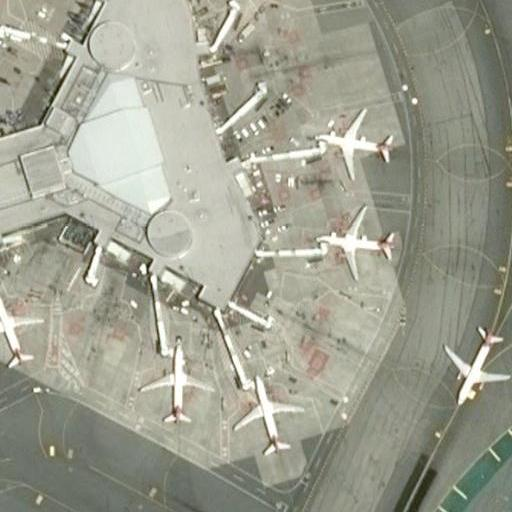Aircraft: (139, 343, 214, 425), (231, 376, 304, 457), (314, 205, 393, 279), (314, 106, 392, 180), (441, 325, 508, 406), (0, 292, 42, 368), (0, 0, 9, 51)
